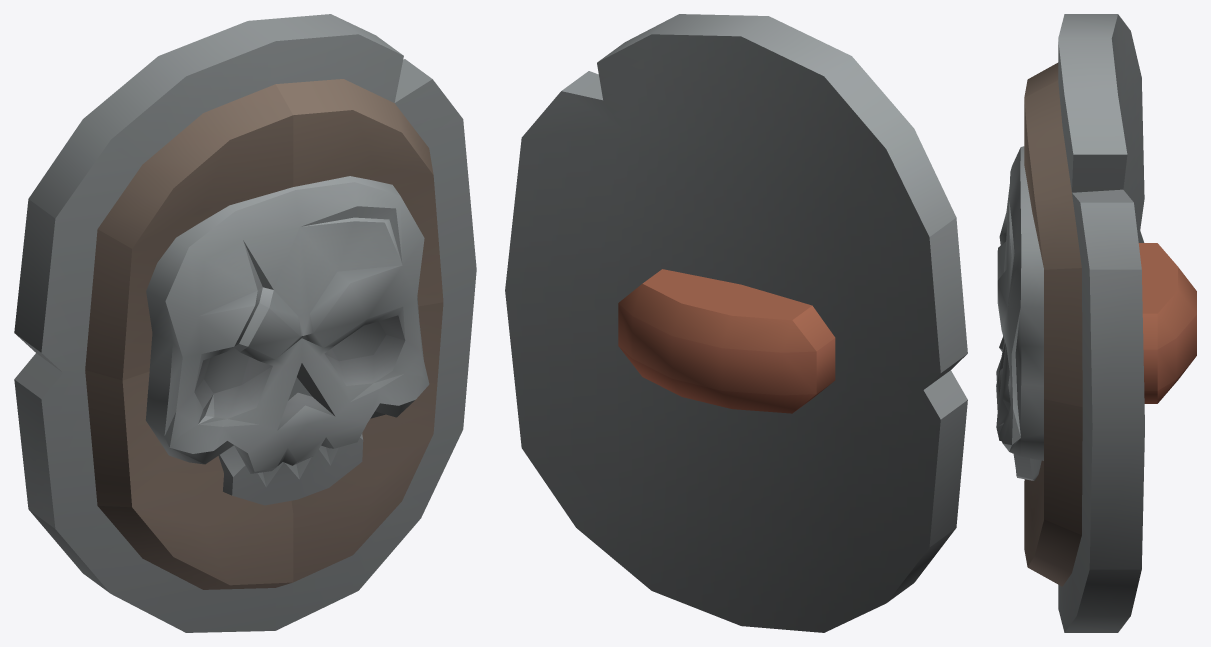
File: Skeleton_Shield_Large_A.gltf
3 views of the same model, side by side, from view 1: azimuth 30°, elevation 25°; view 2: azimuth 150°, elevation 25°; view 3: azimuth 270°, elevation 25° (orthographic). The views are drawn at different scales.
Visible parts, largest first — view 1: Skeleton_Shield_Large_A; view 2: Skeleton_Shield_Large_A; view 3: Skeleton_Shield_Large_A.
Part boxes in pixels (x1,y1,x2,y2): Skeleton_Shield_Large_A: (14,14,476,632); Skeleton_Shield_Large_A: (505,14,967,632); Skeleton_Shield_Large_A: (996,14,1196,632).
Bounding box in the file's own units: 0.8771 × 1.13 × 0.3625.
Materials: 1 (1 with a texture image).
